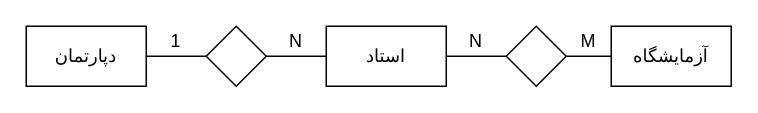
The diagram is 758 pixels wide and 113 high, and some of its shapes have lost their labels. Each missing label, with the centre of its shape:
"استخدام" goes at [235,55].
"سرپرست" goes at [535,55].
